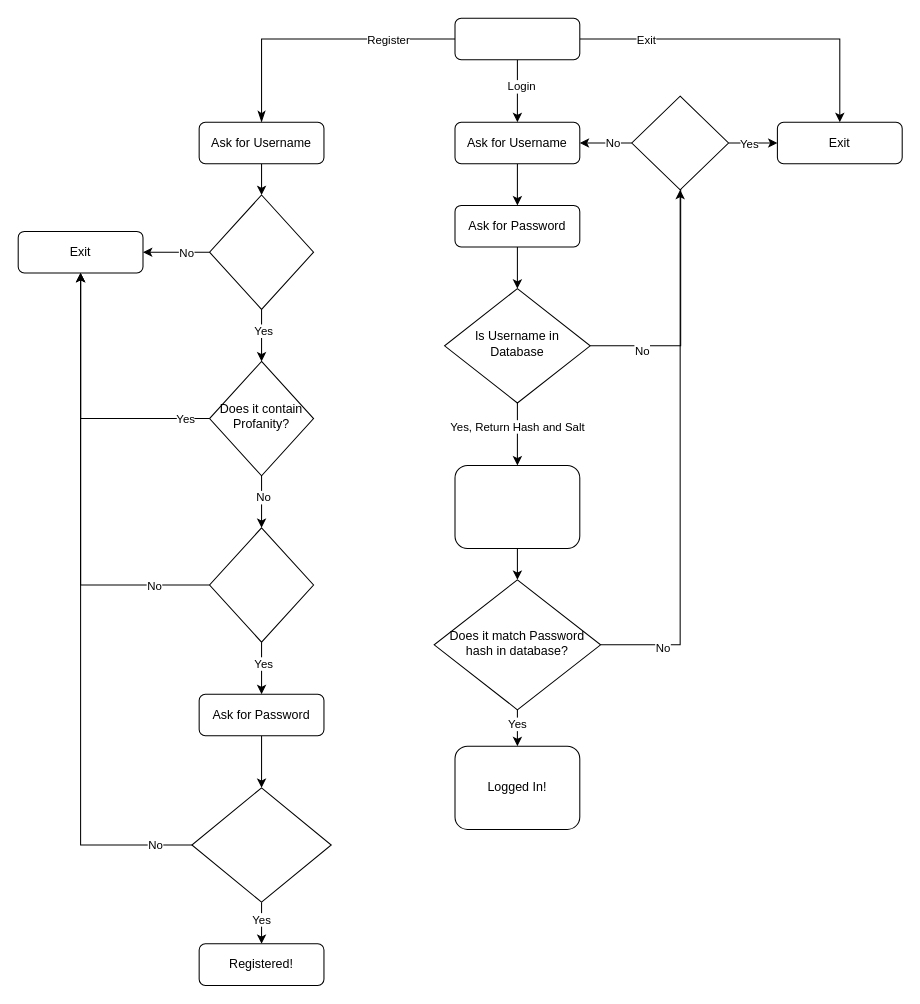
Some shapes in this 920 by 1004 pixel diagram are drawn without their labels. Each missing label, with the centre of its shape:
3 Failed Attempts?: point 680,142
Ask for operation (Login, Register, Exit): point 517,38
Does the password match the requirements?: point 261,844
Is the username Unique?: point 261,584
Is the username Valid?: point 261,251
Obtain Salt from database and Hash password with Pepper: point 517,506
